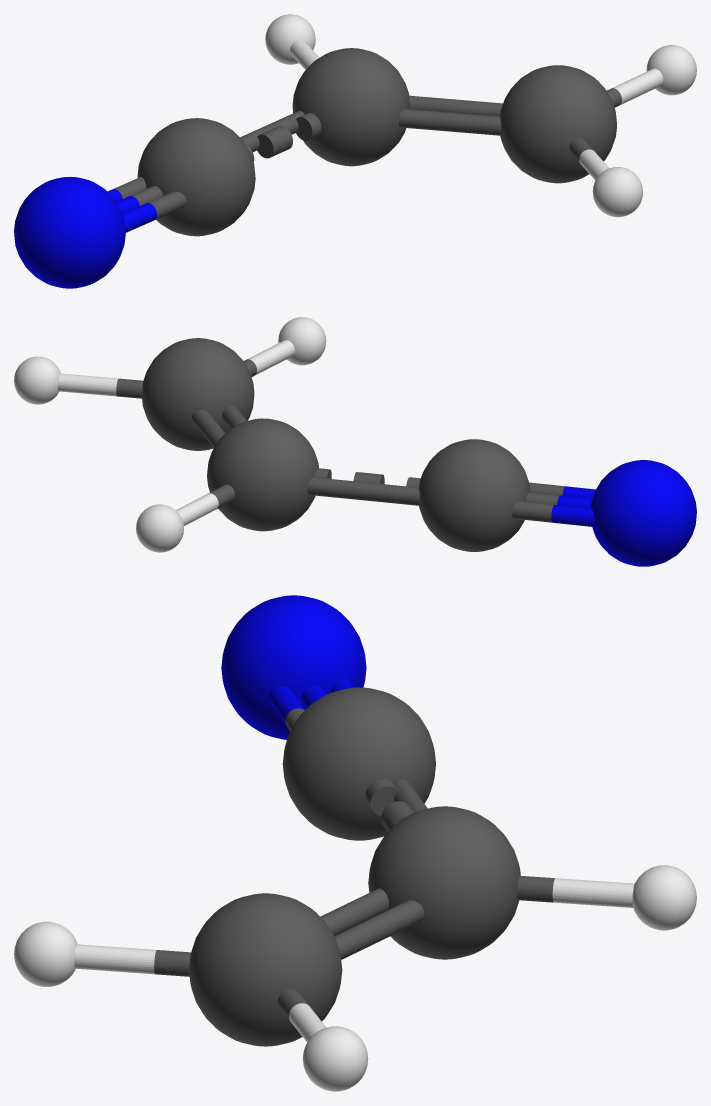
Rendered from acrylonitrile.glb.
3 renders of one model, top to bottom at view 1: azimuth 30°, elevation 25°; view 2: azimuth 150°, elevation 25°; view 3: azimuth 270°, elevation 25°, orthographic. The views are drawn at different scales.
Parts seen in each view (by area): view 1: C04, C03, C01, N02, C03=C04, C01#N02.001, C01%C03, H07, H06, H05, C04-H06, C04-H07 (+1 smaller); view 2: C01, C03, N02, C04, C01#N02.001, C01%C03, H05, H06, H07, C04-H06, C03-H05, C03=C04 (+1 smaller); view 3: C04, C03, C01, N02, C03=C04, H06, H05, H07, C03-H05, C04-H07, C01%C03, C01#N02.001 (+1 smaller).
Boxes of the visible parts, x1,y1,x2,y2 form: C04: [499, 65, 616, 183]; C03: [292, 48, 410, 166]; C01: [137, 118, 255, 236]; N02: [14, 177, 125, 288]; C03=C04: [399, 95, 502, 135]; C01#N02.001: [107, 177, 186, 232]; C01%C03: [240, 110, 321, 161]; H07: [592, 167, 642, 217]; H06: [646, 45, 696, 95]; H05: [265, 14, 315, 64]; C04-H06: [607, 68, 663, 107]; C04-H07: [569, 138, 608, 180]; C01: [419, 439, 530, 551]; C03: [207, 418, 318, 531]; N02: [591, 460, 696, 566]; C04: [141, 338, 254, 450]; C01#N02.001: [511, 482, 595, 526]; C01%C03: [307, 468, 420, 505]; H05: [136, 504, 183, 552]; H06: [14, 356, 60, 404]; H07: [278, 317, 326, 365]; C04-H06: [58, 373, 143, 398]; C03-H05: [176, 484, 234, 525]; C03=C04: [192, 405, 246, 447]; C04: [189, 893, 342, 1046]; C03: [368, 806, 520, 959]; C01: [282, 687, 435, 840]; N02: [221, 595, 366, 739]; C03=C04: [320, 888, 424, 959]; H06: [303, 1026, 368, 1091]; H05: [632, 865, 696, 930]; H07: [14, 921, 77, 986]; C03-H05: [517, 876, 634, 907]; C04-H07: [74, 944, 191, 976]; C01%C03: [365, 779, 427, 831]; C01#N02.001: [268, 678, 353, 730].
Size of the model in its own units: 5.04 by 0.7501 by 3.34.
